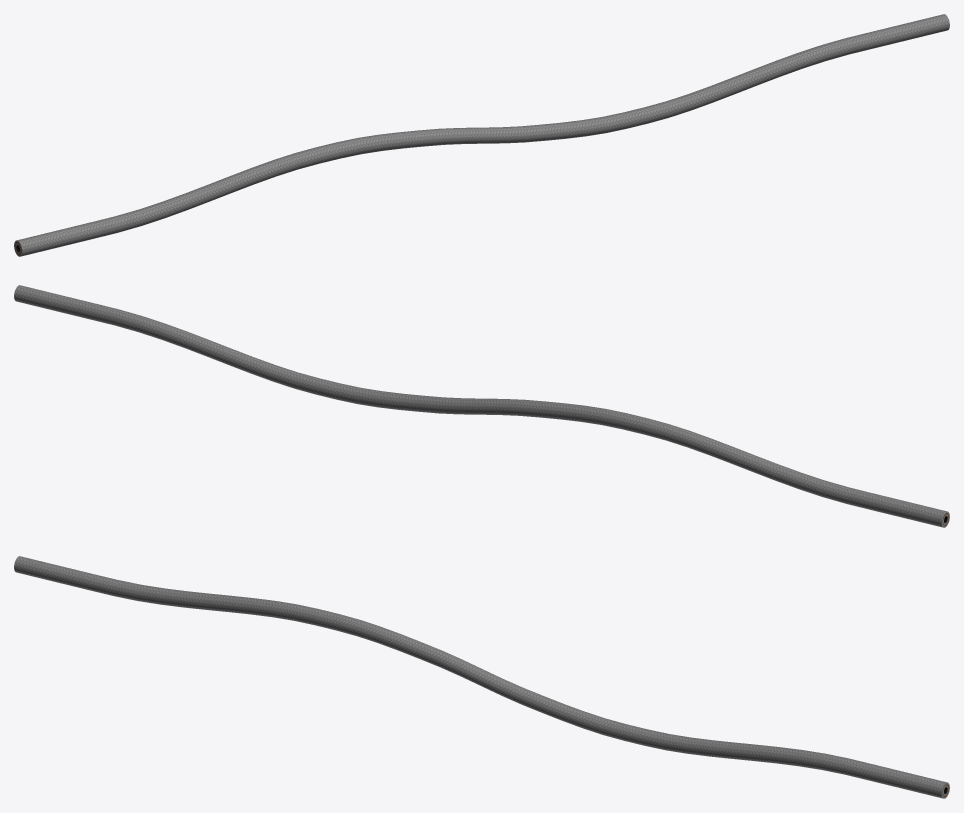
3 renders of one model, top to bottom at view 1: azimuth 30°, elevation 25°; view 2: azimuth 150°, elevation 25°; view 3: azimuth 330°, elevation 25°, orthographic.
Visible parts, largest first — view 1: SB_SS-02; view 2: SB_SS-02; view 3: SB_SS-02.
Boxes of the visible parts, x1=… form: SB_SS-02: x1=14, y1=14, x2=949, y2=256; SB_SS-02: x1=14, y1=285, x2=949, y2=527; SB_SS-02: x1=14, y1=556, x2=949, y2=798.
Size of the model in its own units: 0.3074 by 0.0175 by 0.00483.
2 materials, 2 textured.
